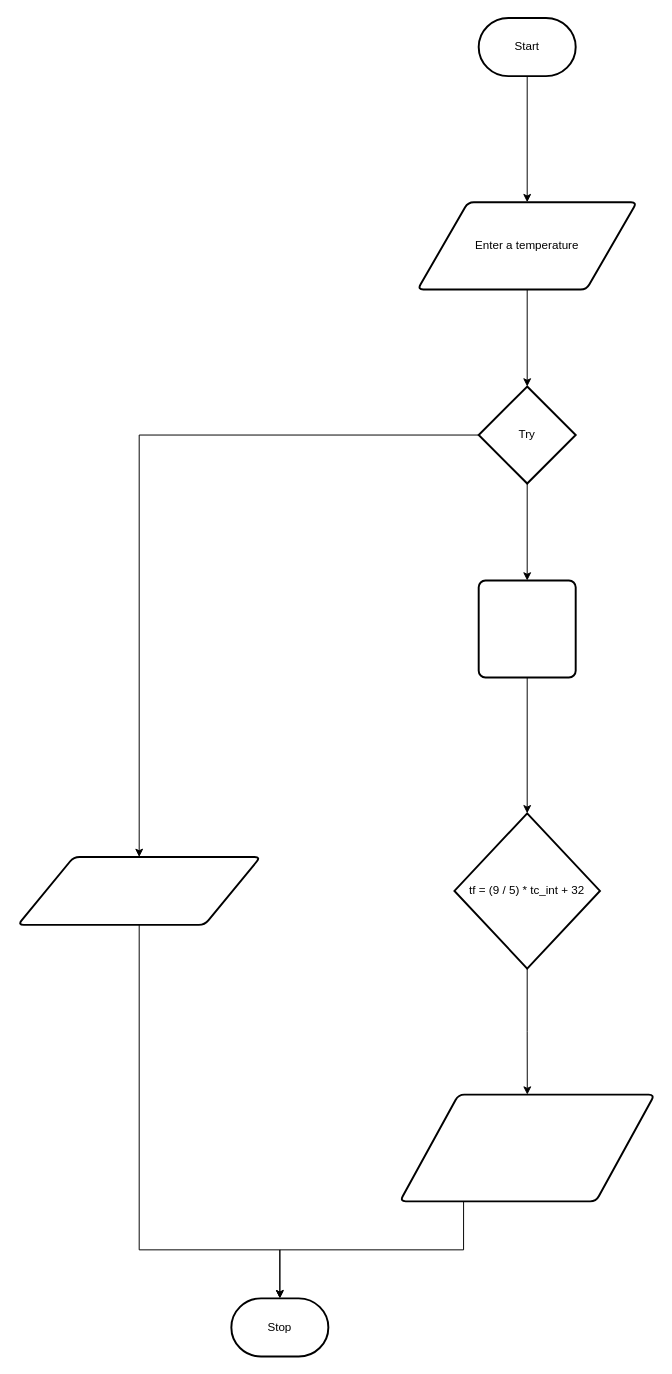
Some shapes in this 672 by 1374 pixel diagram are drawn without their labels. Each missing label, with the centre of its shape:
convert string to int: [526,628]
print " The temperature in degrees Fahrenheit is{} ° F.": [526,1147]
print "sorry, this is not a number" print " please try again": [138,890]
